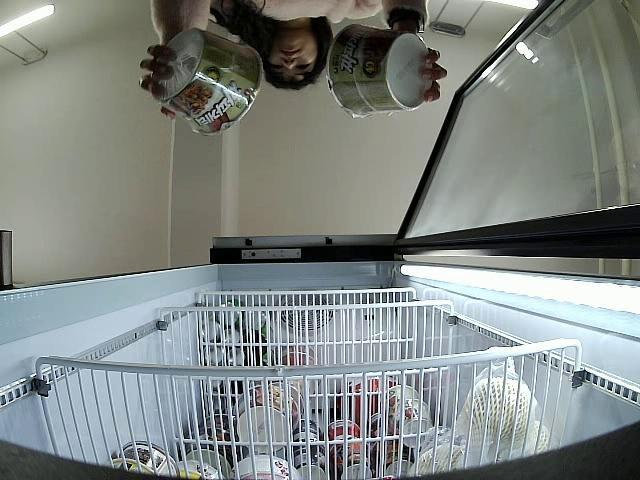03_chapagetti_L: (157, 28, 266, 136), (328, 23, 433, 116)
